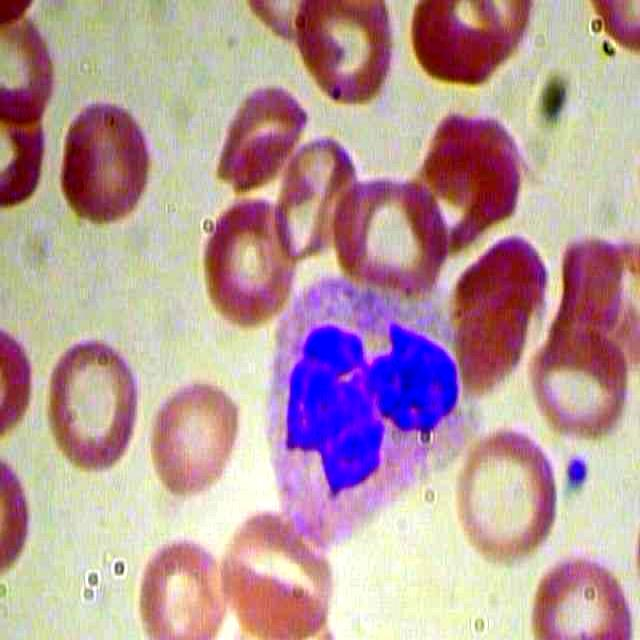Platelets: (564, 444, 596, 496)
RBC: (449, 414, 560, 570), (329, 172, 456, 299), (146, 353, 244, 512), (220, 502, 334, 638), (42, 323, 140, 481), (54, 75, 152, 233), (200, 190, 304, 338), (205, 79, 313, 196), (529, 318, 628, 442), (291, 1, 400, 112), (133, 525, 232, 640)
WBC: (246, 282, 477, 554)
